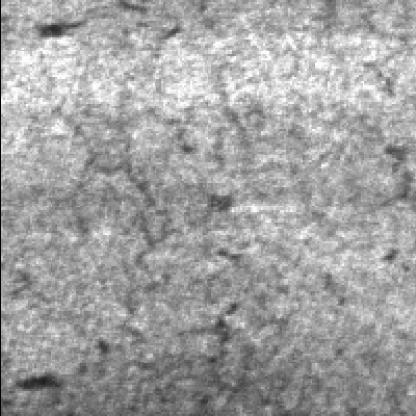crazing: (25, 20, 212, 320), (116, 242, 318, 416), (331, 2, 416, 271)
